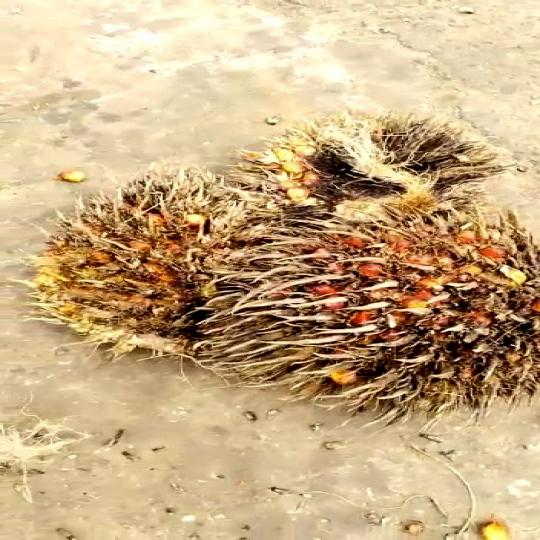terlalu masak: (195, 202, 540, 425), (15, 146, 276, 369), (228, 111, 535, 233)
